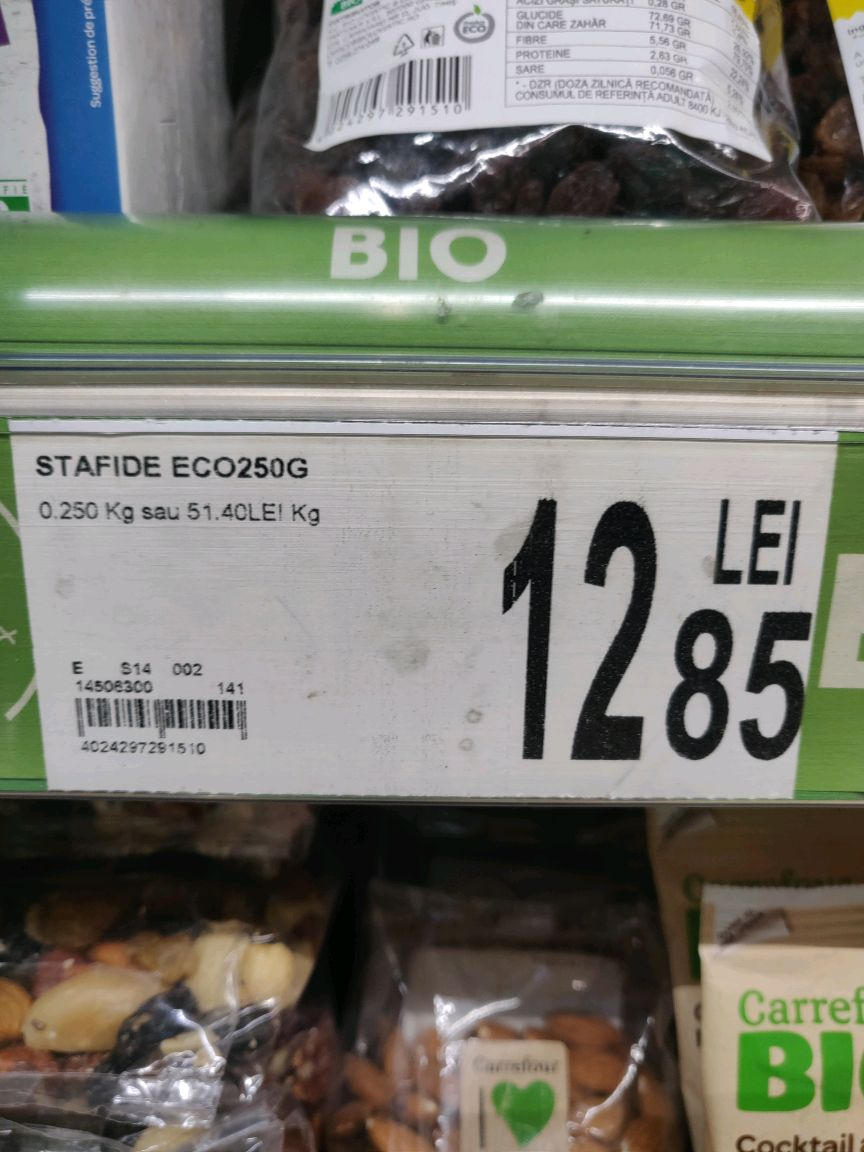price_bani: (659, 590, 826, 797)
price_lei: (479, 493, 672, 783)
price_tag: (1, 421, 842, 821)
product_id: (76, 740, 212, 758)
product_name: (25, 447, 316, 481)
